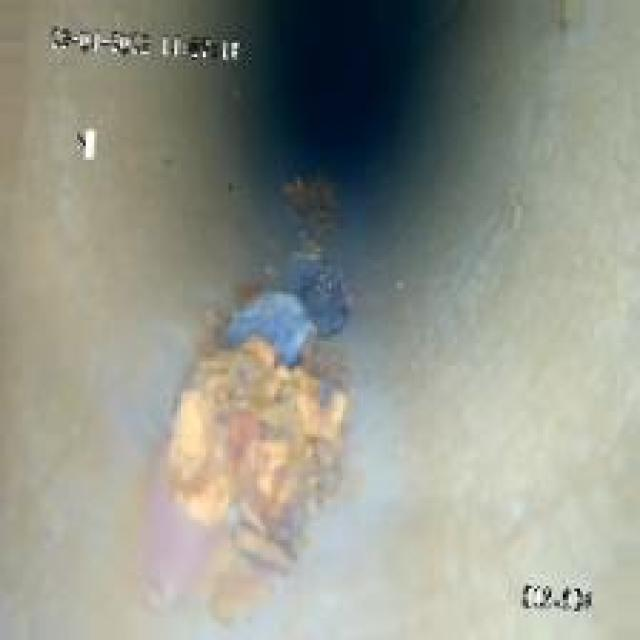stone: (151, 243, 386, 548)
